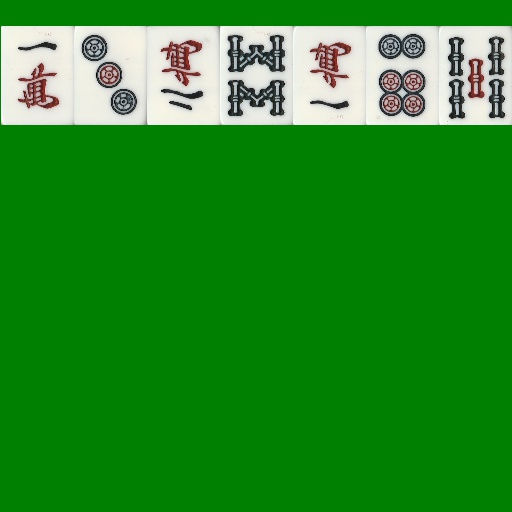1m: (1, 26, 74, 125), (293, 26, 366, 125)
2m: (147, 26, 220, 125)
3p: (74, 26, 147, 125)
5s: (439, 26, 512, 125)
6p: (366, 26, 439, 125)
8s: (220, 26, 293, 125)
